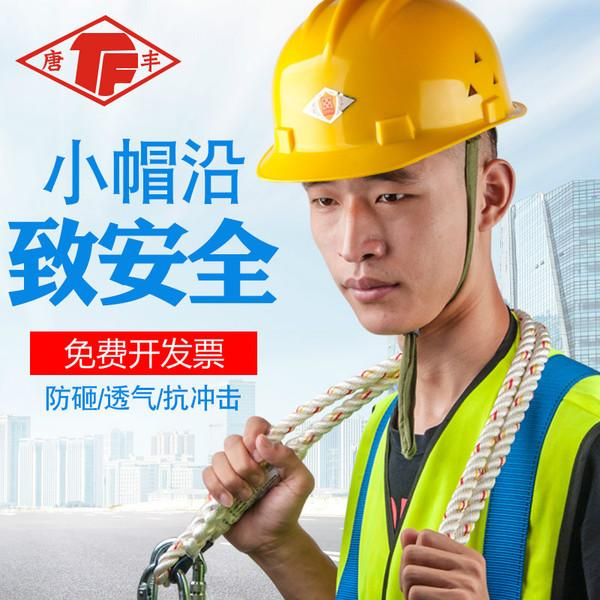helmet: (250, 1, 522, 179)
